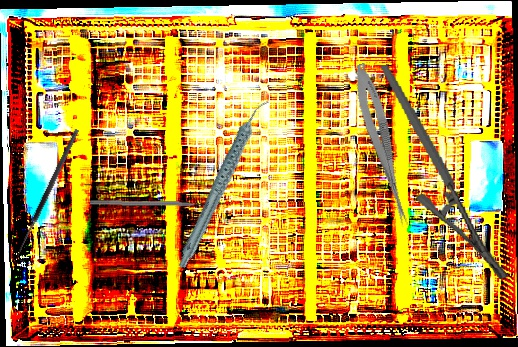Chopper: (89, 199, 212, 214)
Handpiece: (147, 97, 301, 271)
Hook Surgical: (13, 127, 86, 264)
Micro Scissor: (346, 61, 420, 229)
Needle Holder: (380, 50, 509, 293)
